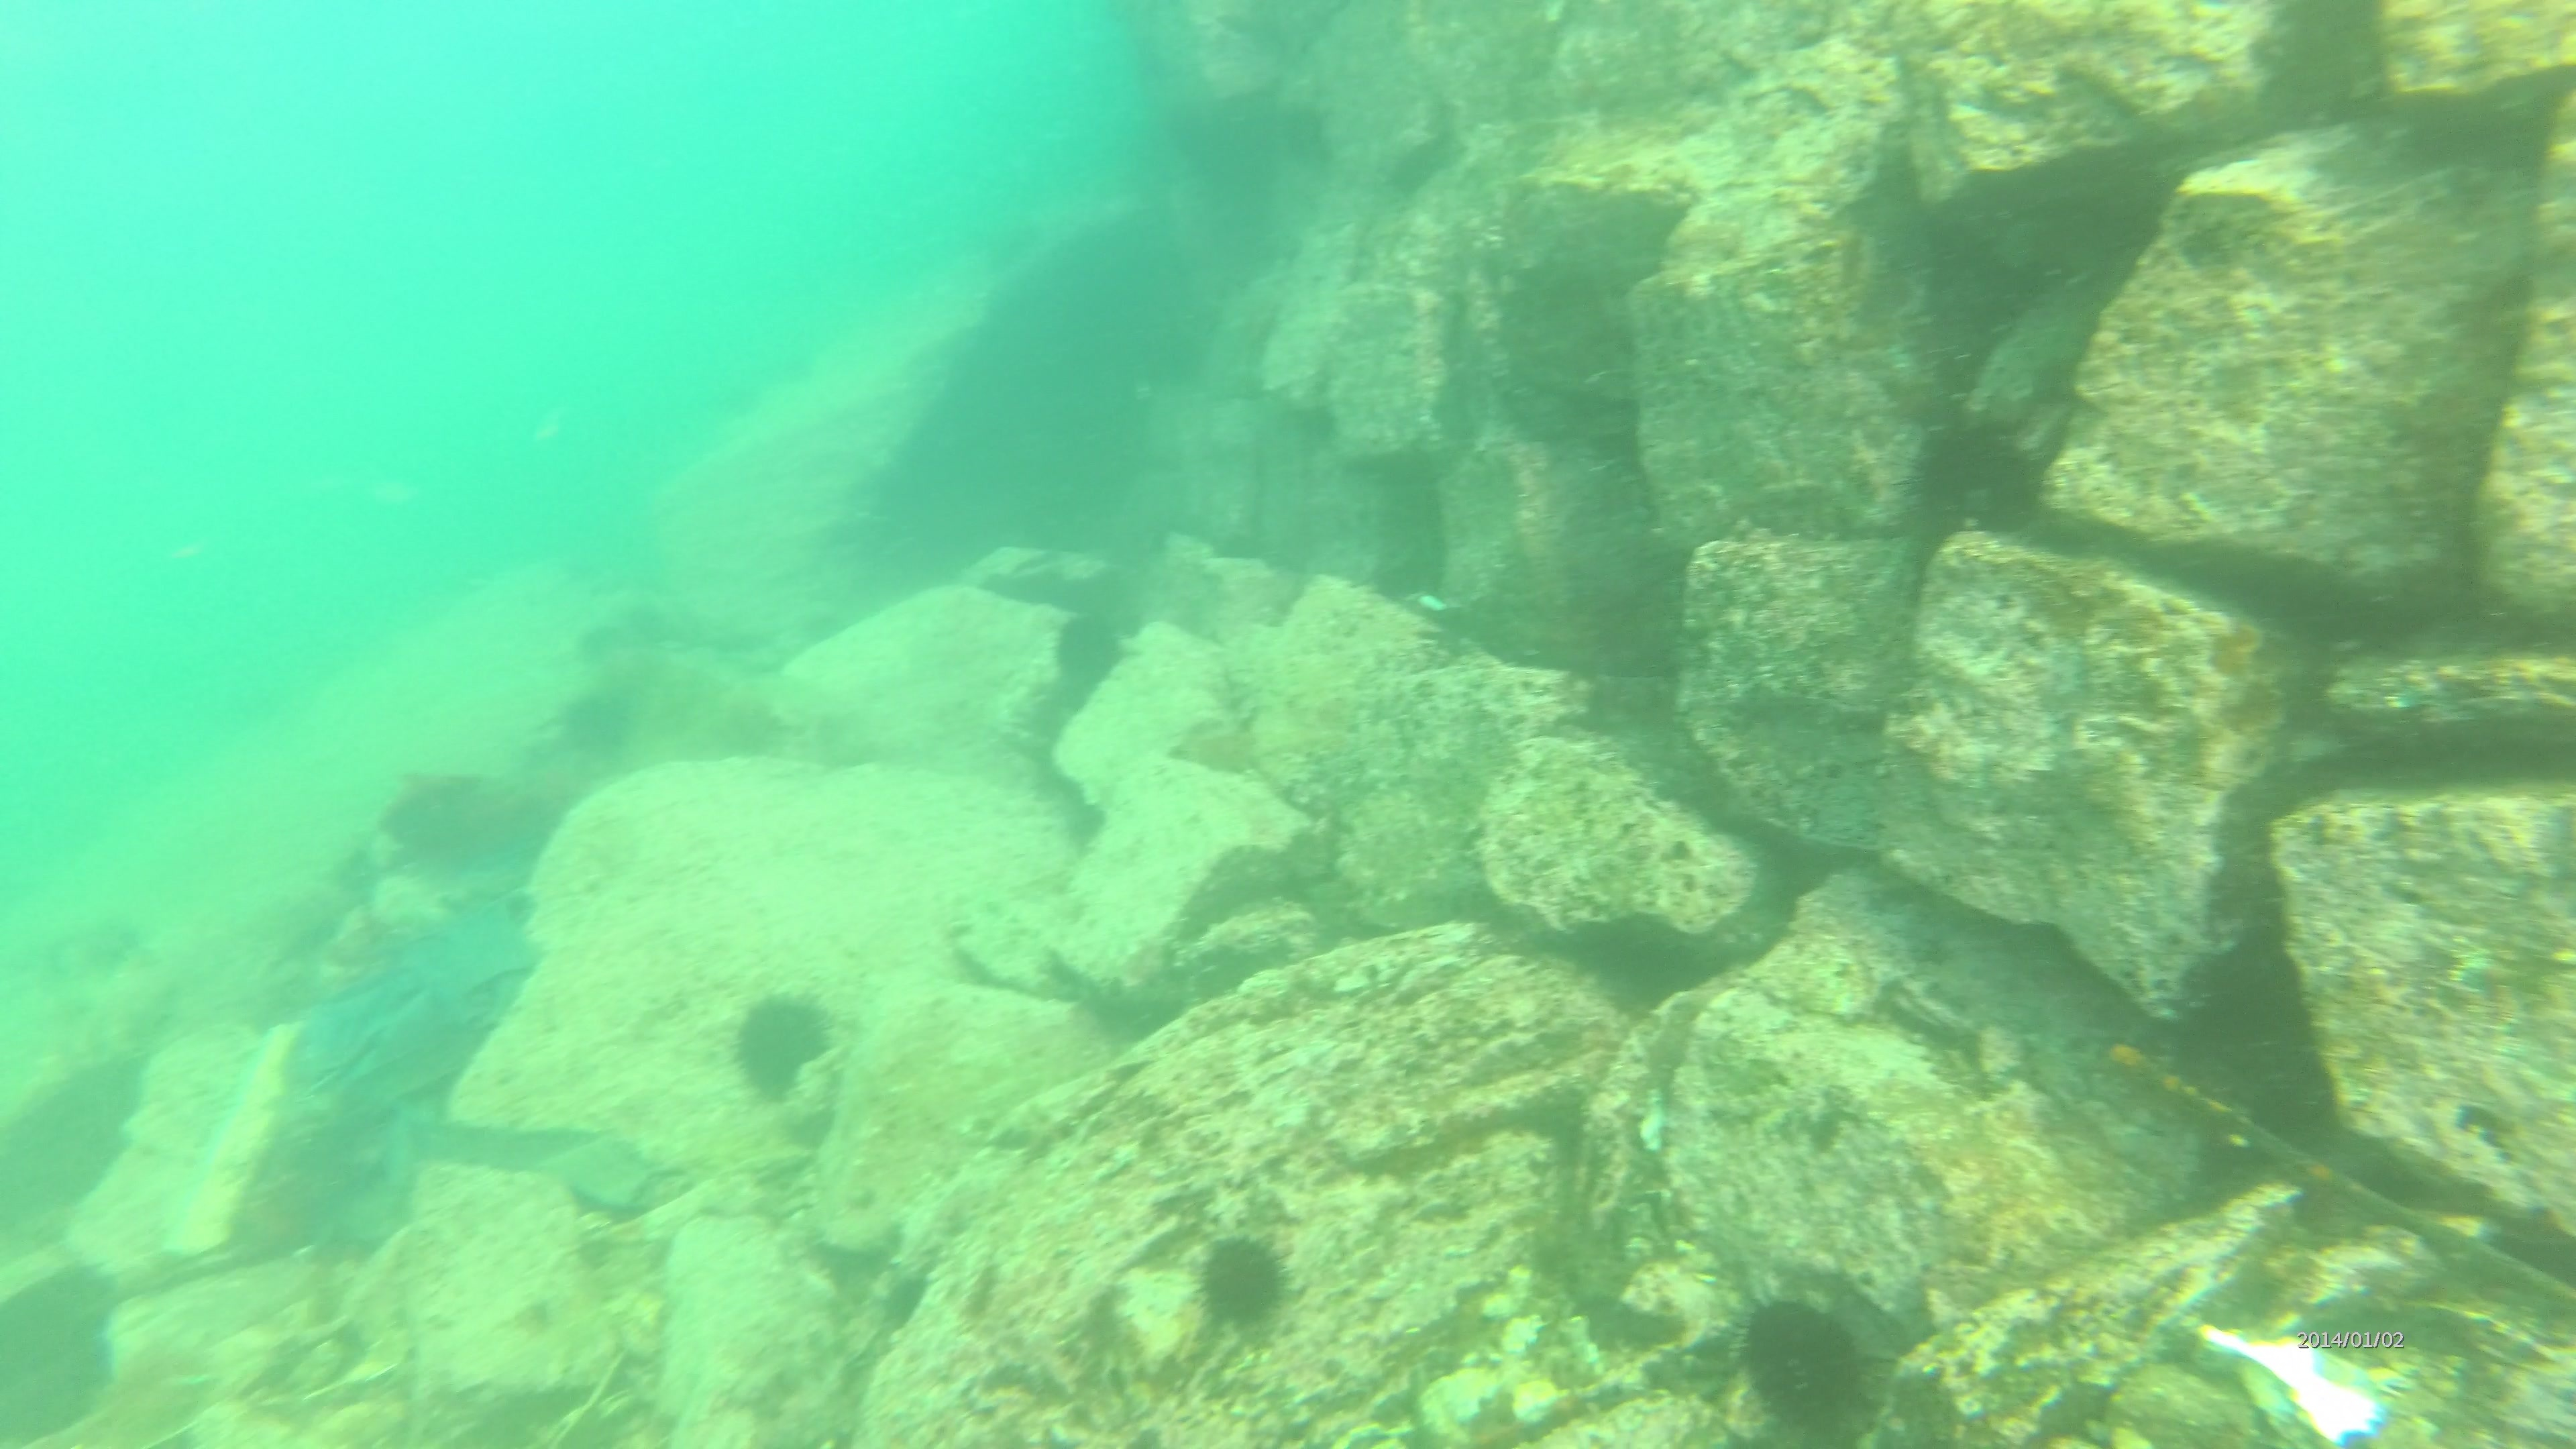echinus: (1721, 1284, 1877, 1435), (1911, 410, 2036, 536), (729, 989, 837, 1097), (1203, 1231, 1284, 1327), (1049, 612, 1134, 686)
